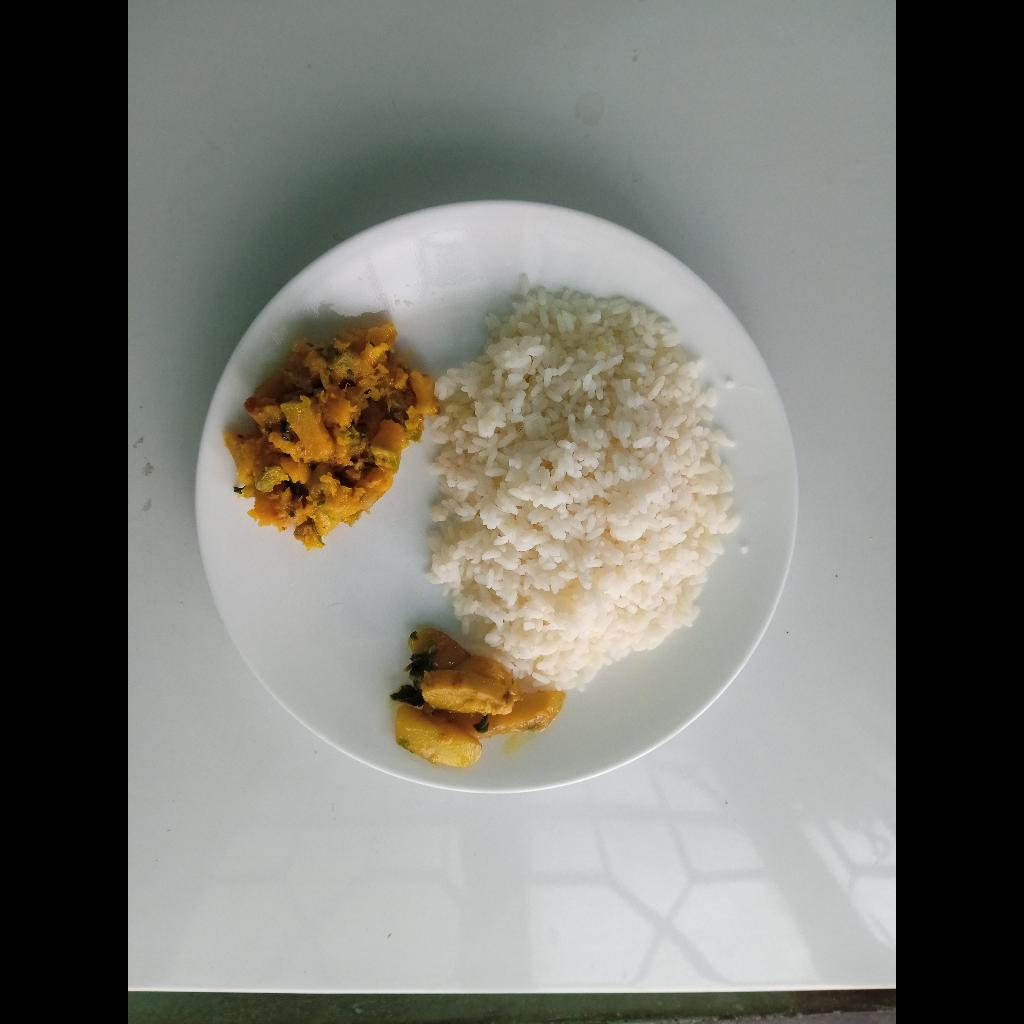kumra-vaji: (233, 329, 424, 539)
lau: (385, 630, 568, 764)
rice: (428, 293, 743, 682)
